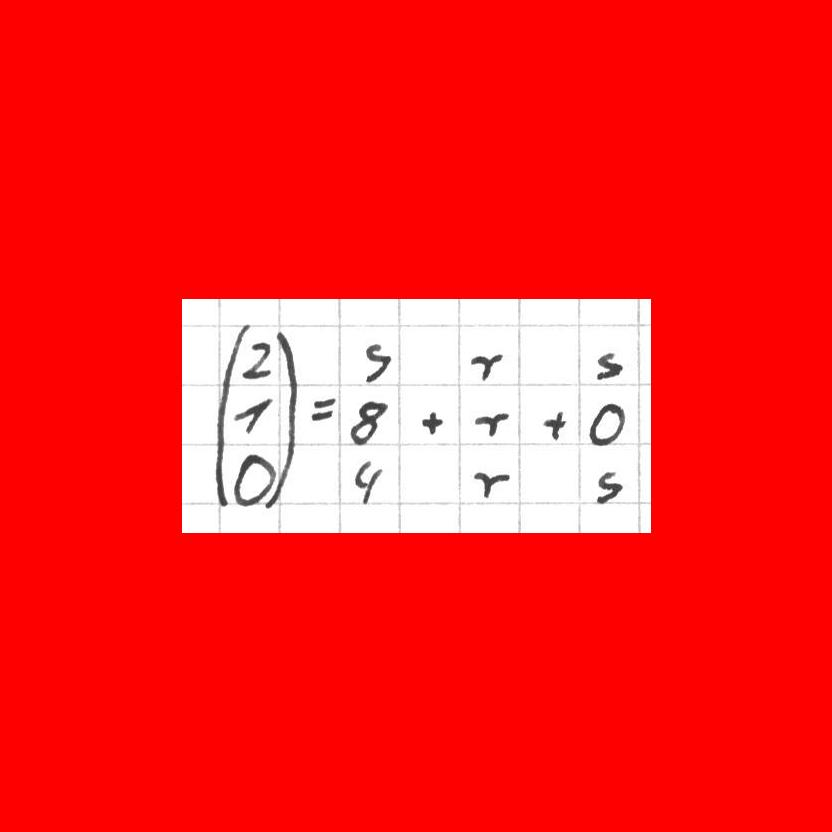Char: (207, 323, 238, 512), (273, 325, 297, 492), (232, 451, 281, 511), (232, 392, 271, 442), (587, 399, 625, 449), (348, 398, 388, 445), (352, 458, 384, 507), (362, 339, 392, 387), (241, 337, 272, 383), (468, 349, 503, 383), (473, 467, 507, 500), (592, 349, 625, 382), (473, 410, 508, 440), (595, 468, 622, 505), (541, 407, 567, 442), (307, 392, 335, 424), (420, 407, 440, 439)
